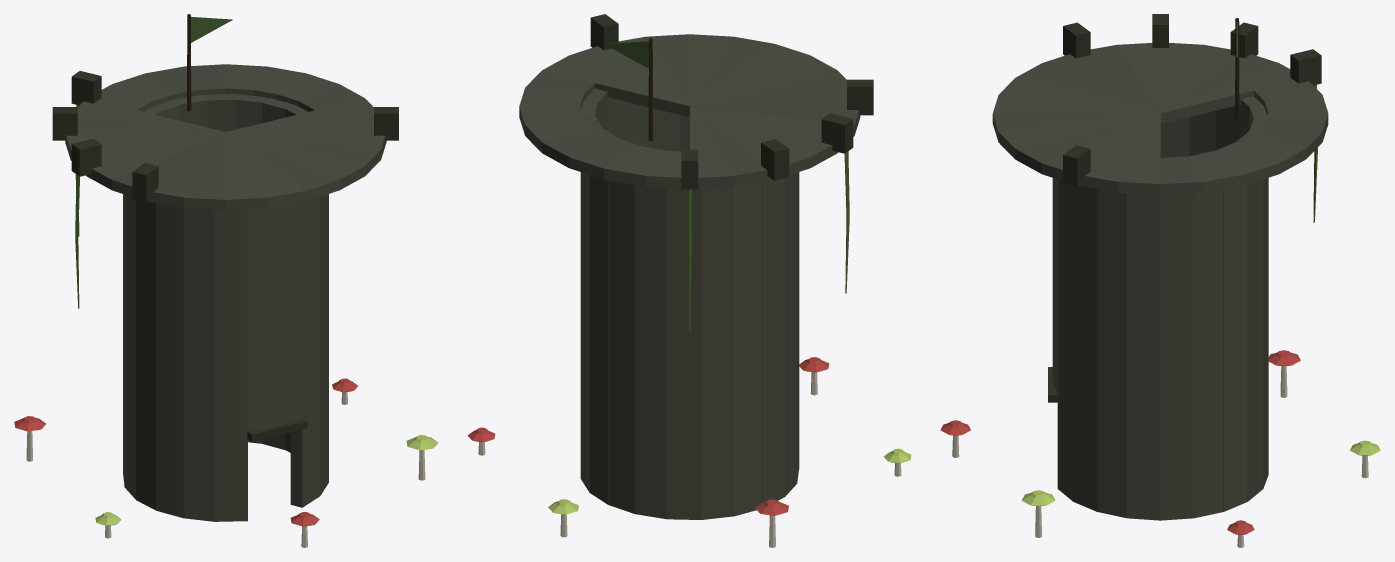
Rendered from tower_swamp_hollow.glb.
3 renders of one model, left to right at view 1: azimuth 30°, elevation 25°; view 2: azimuth 150°, elevation 25°; view 3: azimuth 270°, elevation 25°, orthographic. The views are drawn at different scales.
Parts seen in each view (by area): view 1: tower_swamp_hollow; view 2: tower_swamp_hollow; view 3: tower_swamp_hollow.
Boxes of the visible parts, x1,y1,x2,y2 form: tower_swamp_hollow: (14,14,438,547); tower_swamp_hollow: (467,14,911,547); tower_swamp_hollow: (940,14,1380,547).
Size of the model in its own units: 16.94 by 21 by 18.37.
